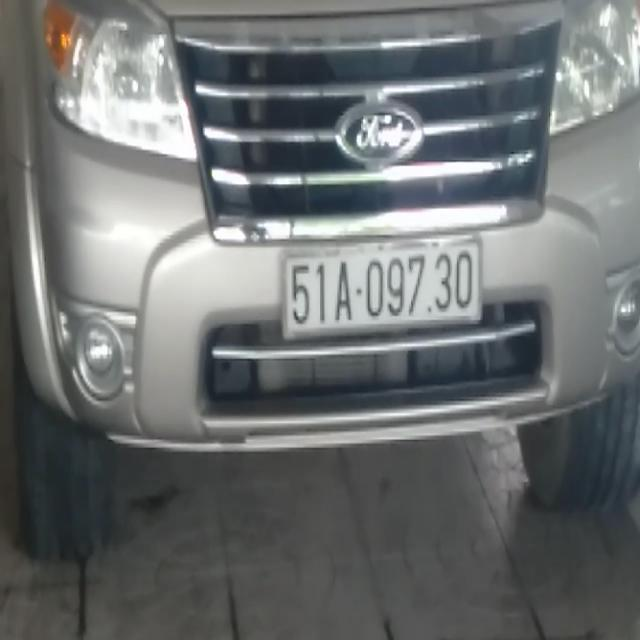bien_trang: (284, 248, 480, 326)
